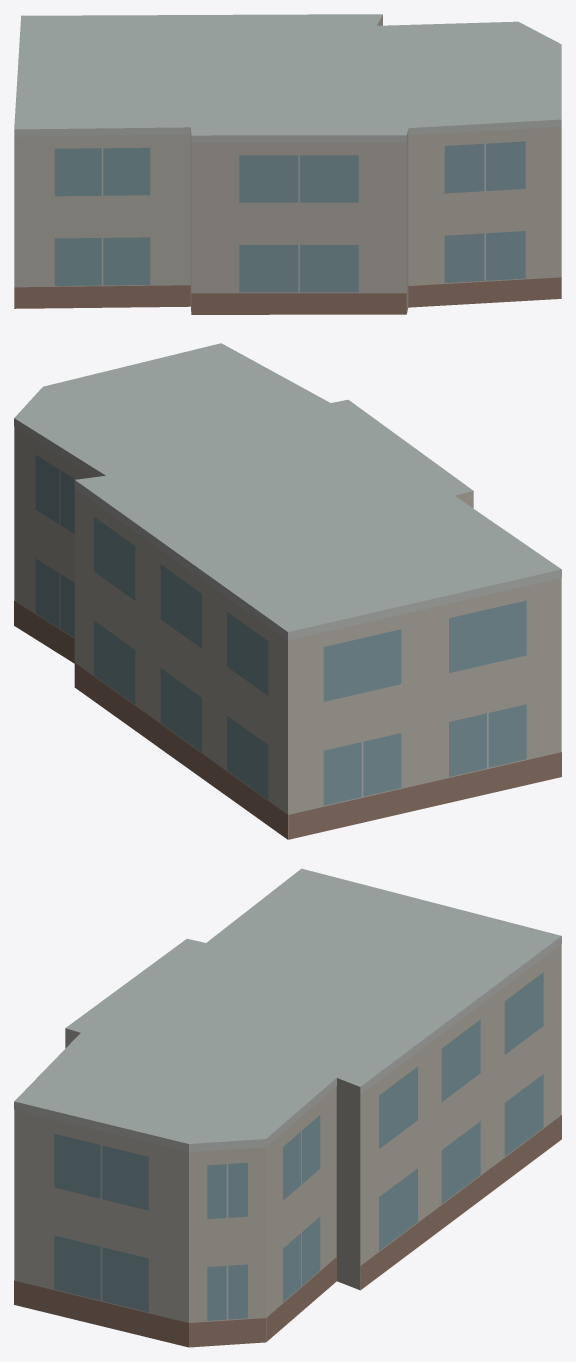
The model's file is survey-upis-32891285.glb.
3 views of the same model, one above another, from view 1: azimuth 30°, elevation 25°; view 2: azimuth 150°, elevation 25°; view 3: azimuth 270°, elevation 25° (orthographic). The views are drawn at different scales.
Parts seen in each view (by area): view 1: survey-upis-32891285.tmp; view 2: survey-upis-32891285.tmp; view 3: survey-upis-32891285.tmp.
Boxes of the visible parts, box(x1,y1,x2,y2) form: survey-upis-32891285.tmp: box(14, 14, 561, 314); survey-upis-32891285.tmp: box(14, 343, 561, 839); survey-upis-32891285.tmp: box(14, 868, 561, 1347).
Size of the model in its own units: 17.74 by 6.1 by 14.9.
